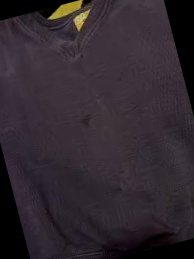oil: (74, 110, 96, 131)
